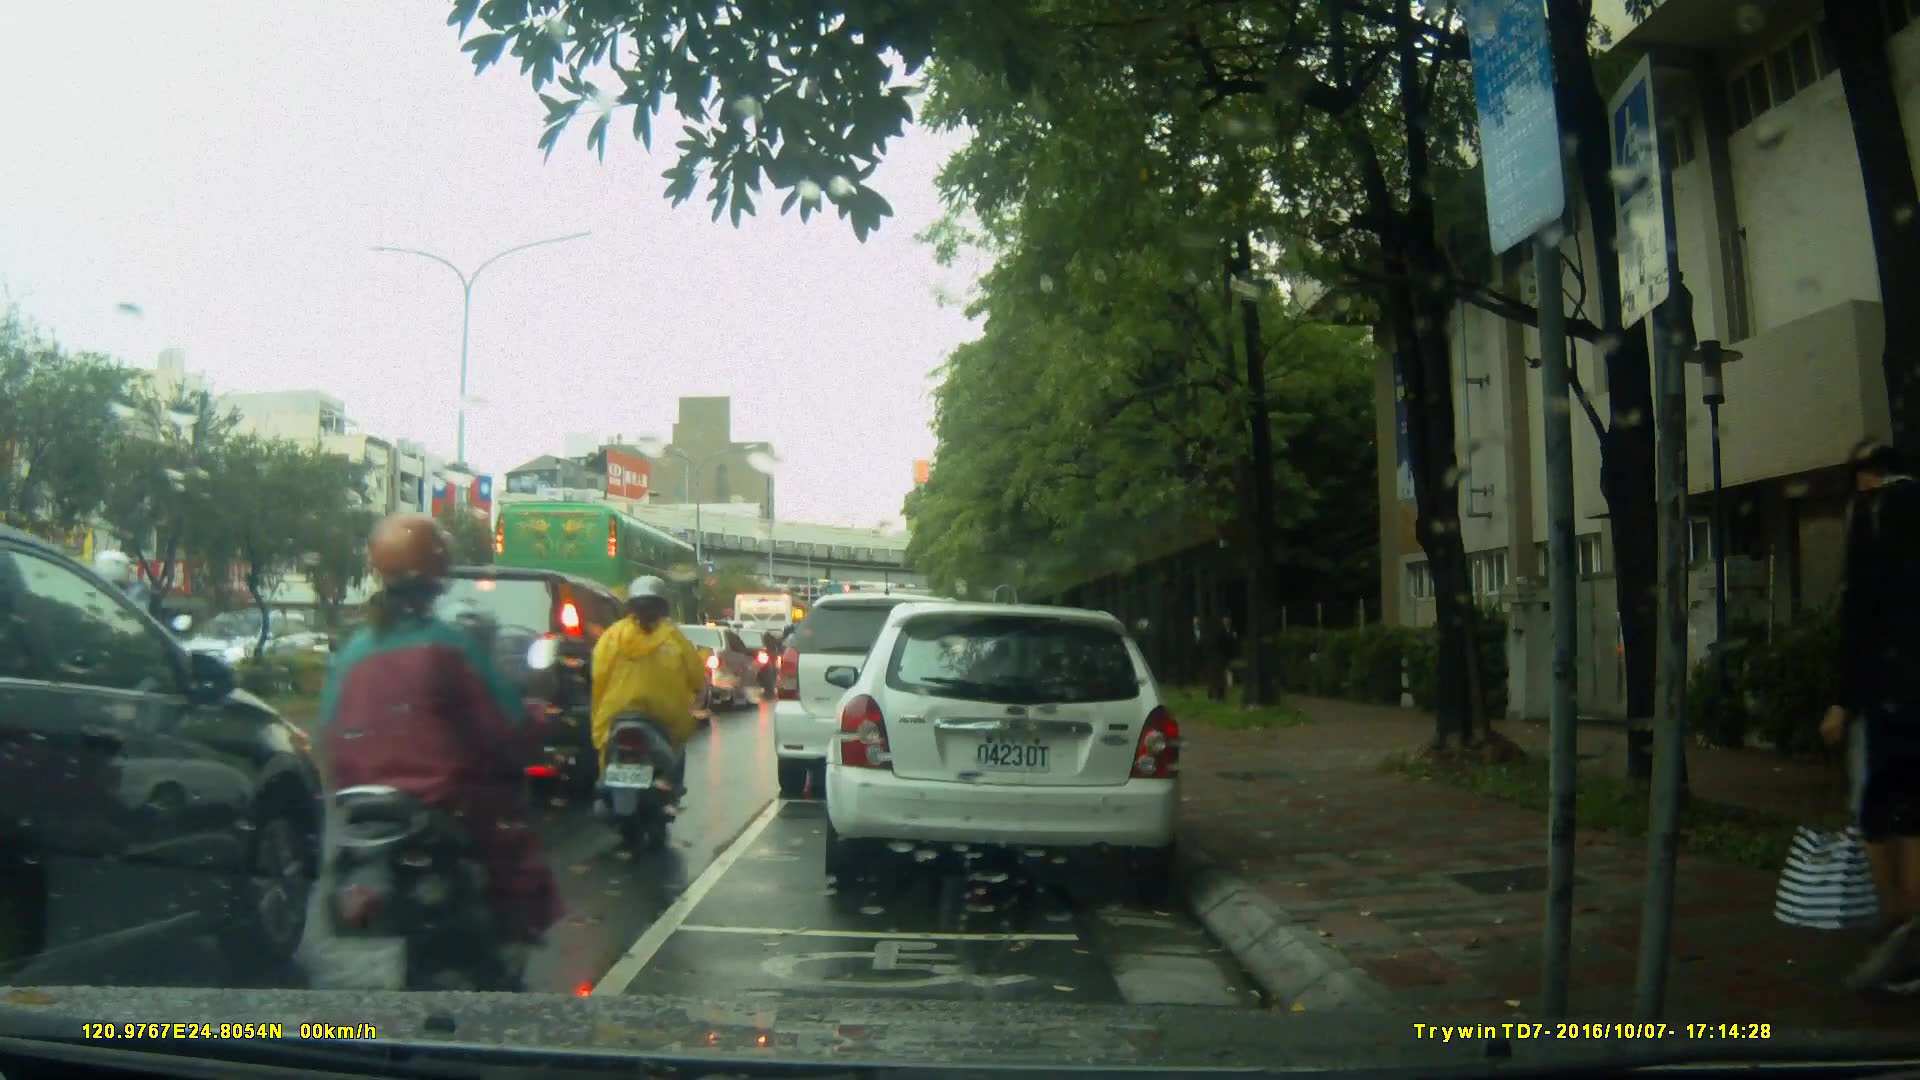pedestrian: (1771, 446, 1920, 1006)
rider: (317, 509, 569, 1010), (590, 571, 711, 855)
vehicle: (1, 519, 300, 988), (831, 592, 1196, 897), (381, 563, 670, 805), (770, 592, 999, 801), (492, 497, 705, 659), (172, 601, 320, 701), (642, 624, 762, 712)
